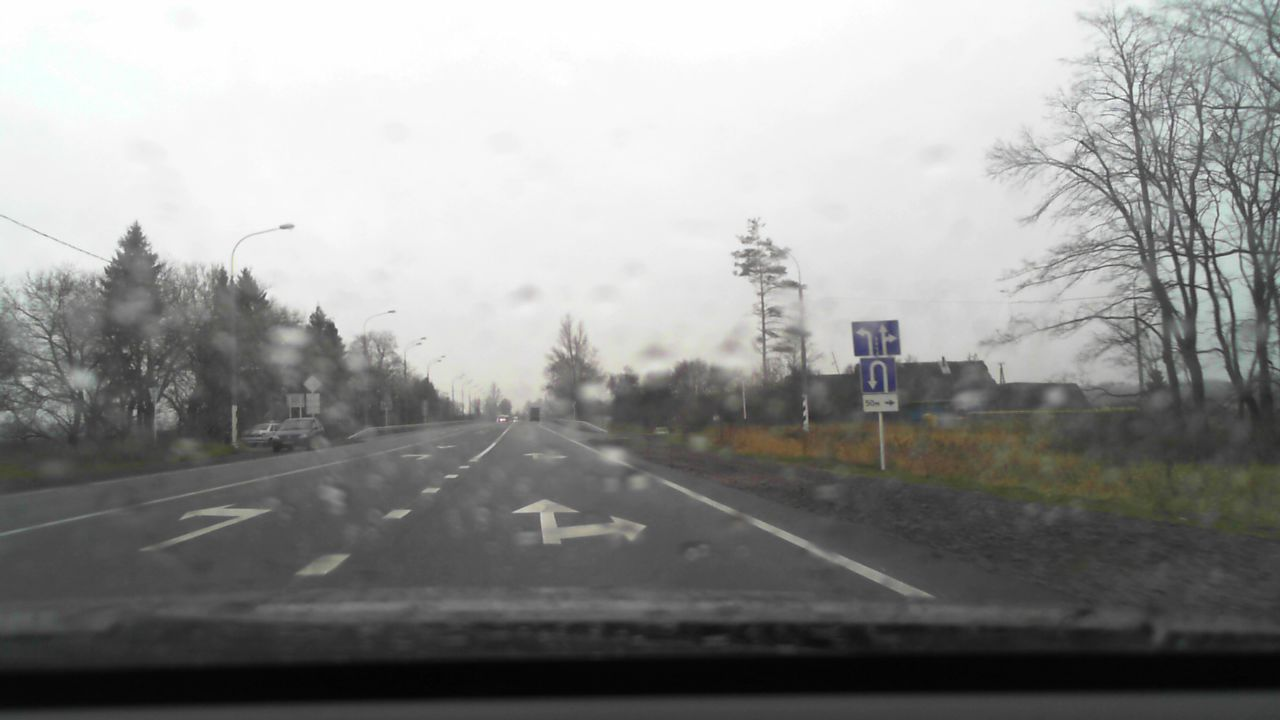U-turn: (860, 358, 896, 394)
